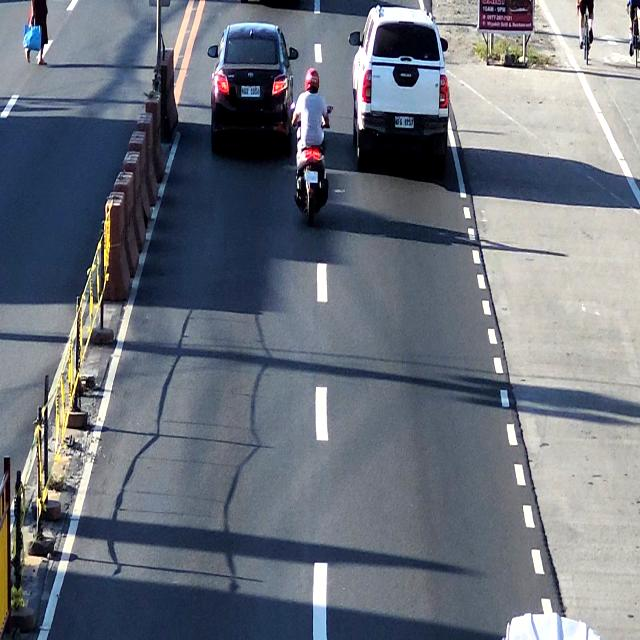Car: (348, 6, 452, 172), (208, 27, 292, 146)
License-Plate: (240, 81, 261, 102), (394, 114, 416, 132), (304, 168, 319, 182)
Motorcycle: (294, 71, 328, 232)
